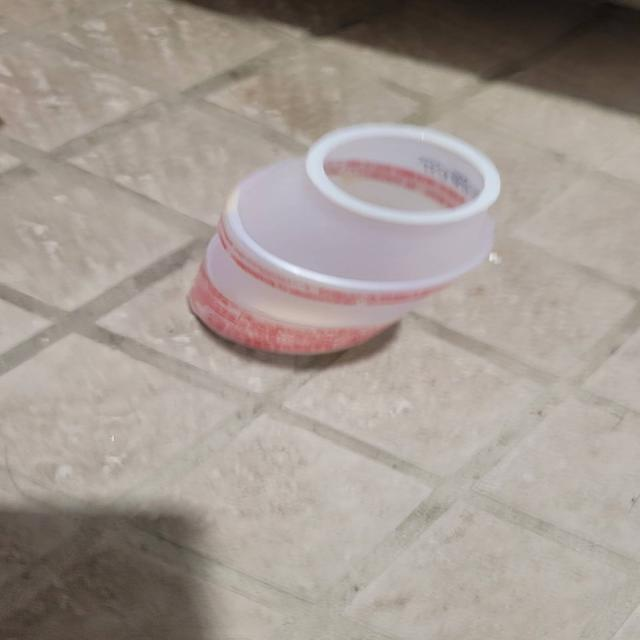PET bottle: (175, 114, 518, 368)
